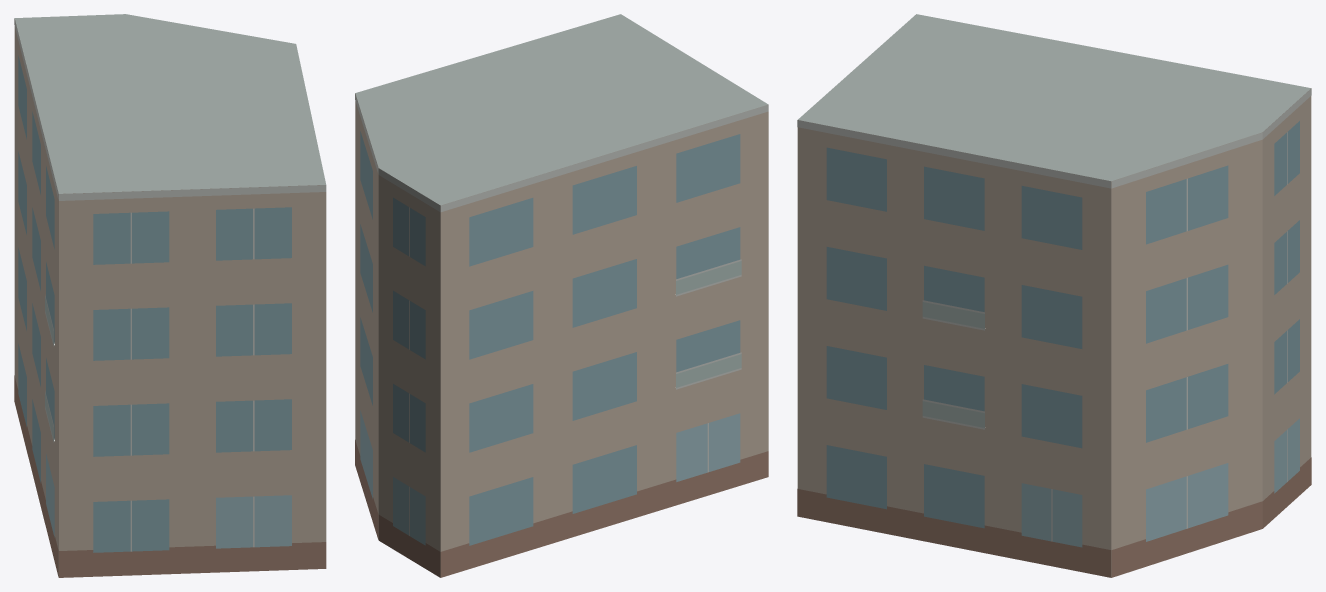
The model's file is survey-upis-32975257.glb.
The picture shows the model from 3 angles, left to right: view 1: azimuth 30°, elevation 25°; view 2: azimuth 150°, elevation 25°; view 3: azimuth 270°, elevation 25°; orthographic projection. The views are drawn at different scales.
Parts seen in each view (by area): view 1: survey-upis-32975257.tmp; view 2: survey-upis-32975257.tmp; view 3: survey-upis-32975257.tmp.
Part boxes in pixels (x1,y1,x2,y2): survey-upis-32975257.tmp: (14,14,326,577); survey-upis-32975257.tmp: (355,14,768,577); survey-upis-32975257.tmp: (797,14,1311,577).
Size of the model in its own units: 11.95 by 13.2 by 15.51.
